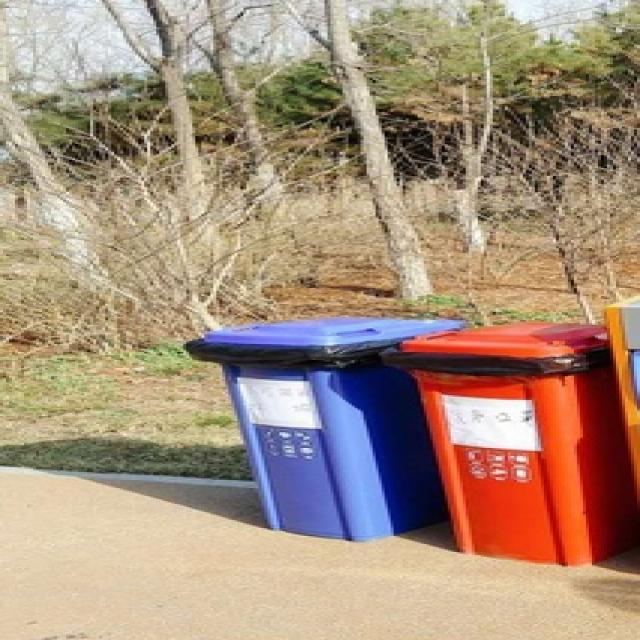ash bin: (192, 314, 460, 539), (394, 320, 628, 565)
